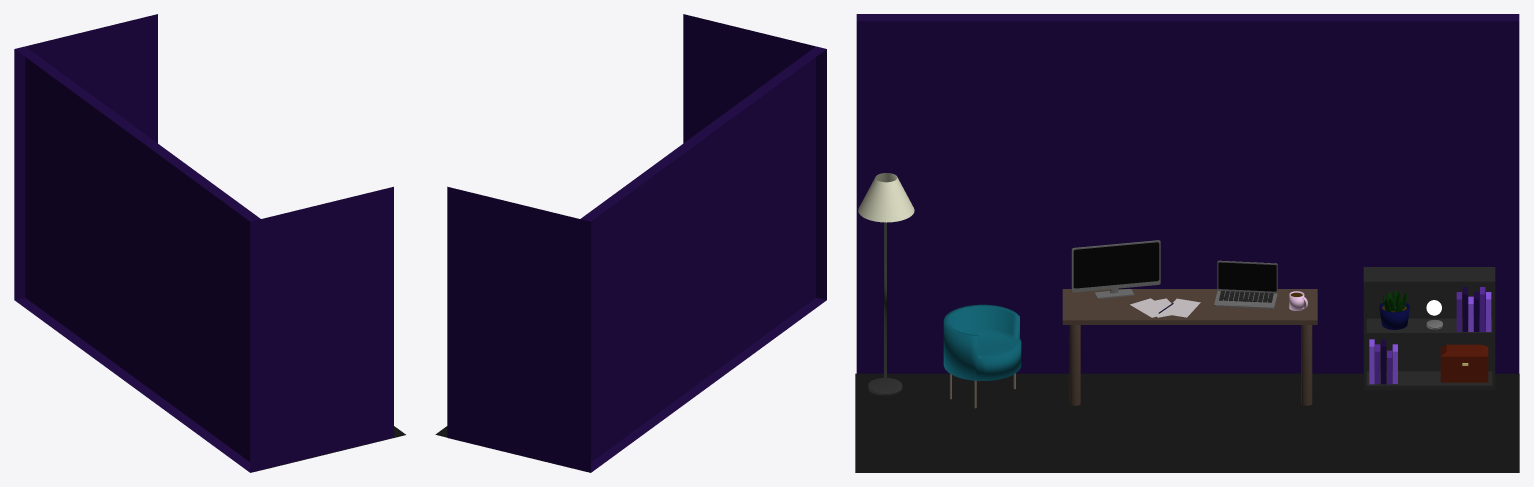
3 views of the same model, side by side, from view 1: azimuth 30°, elevation 25°; view 2: azimuth 150°, elevation 25°; view 3: azimuth 270°, elevation 25° (orthographic). The views are drawn at different scales.
Parts seen in each view (by area): view 1: Walls; view 2: Walls; view 3: Walls, Rug, Shelf, Desk, Chair top, Monitor_screen, Lamp Shade, Cube, Screen, Monitor, Cylinder.001, Laptop.
Boxes of the visible parts, <box> form: Walls: <box>14,14,393,472</box>; Walls: <box>447,14,826,472</box>; Walls: <box>856,14,1519,373</box>; Rug: <box>855,373,1519,472</box>; Shelf: <box>1363,267,1495,390</box>; Desk: <box>1062,289,1317,405</box>; Chair top: <box>943,304,1021,380</box>; Monitor_screen: <box>1073,242,1159,288</box>; Lamp Shade: <box>858,173,914,222</box>; Cube: <box>1440,344,1488,382</box>; Screen: <box>1218,262,1276,291</box>; Monitor: <box>1071,240,1160,298</box>; Cylinder.001: <box>868,222,902,395</box>; Laptop: <box>1214,260,1277,308</box>.
Bounding box in the file's own units: 8.13 × 12.61 × 21.41.
